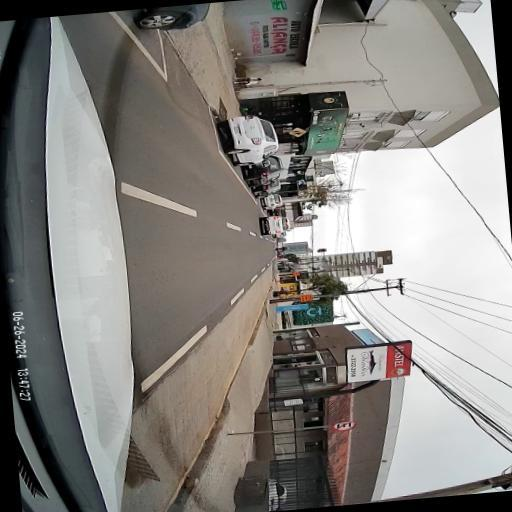R-6a: (332, 421, 358, 431)
